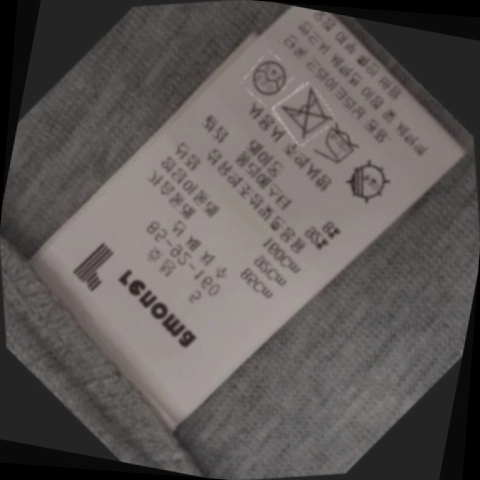DN_wash: (267, 79, 340, 147)
dry_clean_petrol_only: (238, 47, 297, 105)
iron_low: (305, 116, 370, 177)
line_dry_in_shade: (330, 151, 399, 215)
